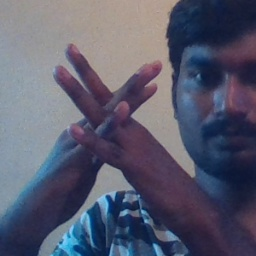W: (48, 35, 174, 189)
